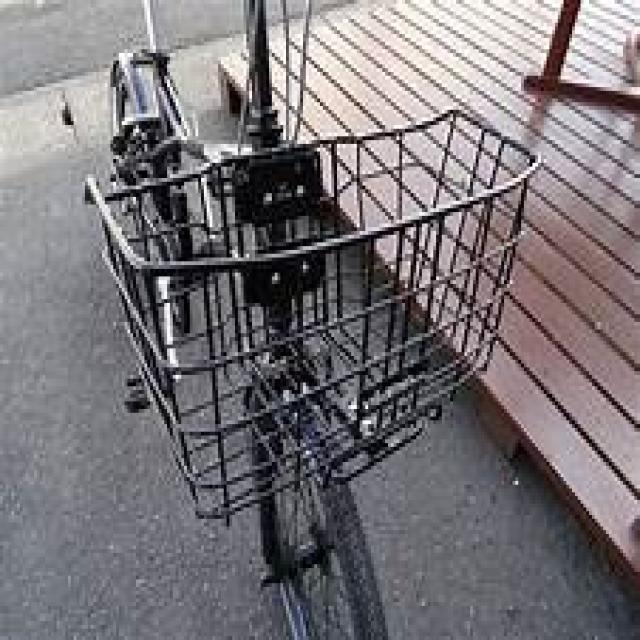basket: (79, 105, 548, 518)
